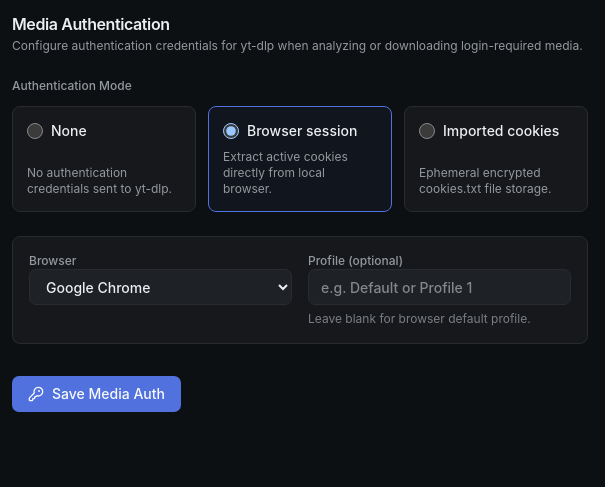
Scenario: MediaAuthPanel Component › displays backend validation errors cleanly on save failure
Expected: the heading "Media Authentication" is shown, [12, 14, 170, 34]
Step 1. Click the button "Save Media Auth" → (96, 394), box [12, 376, 181, 412]
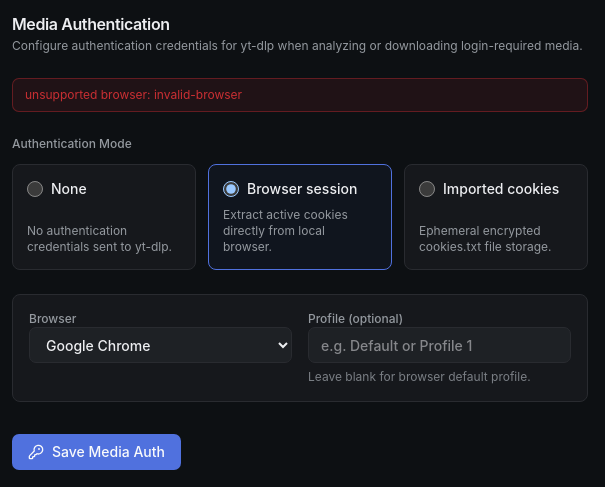
Now the message reads "unsupported browser: invalid-browser", box [25, 87, 242, 102]
